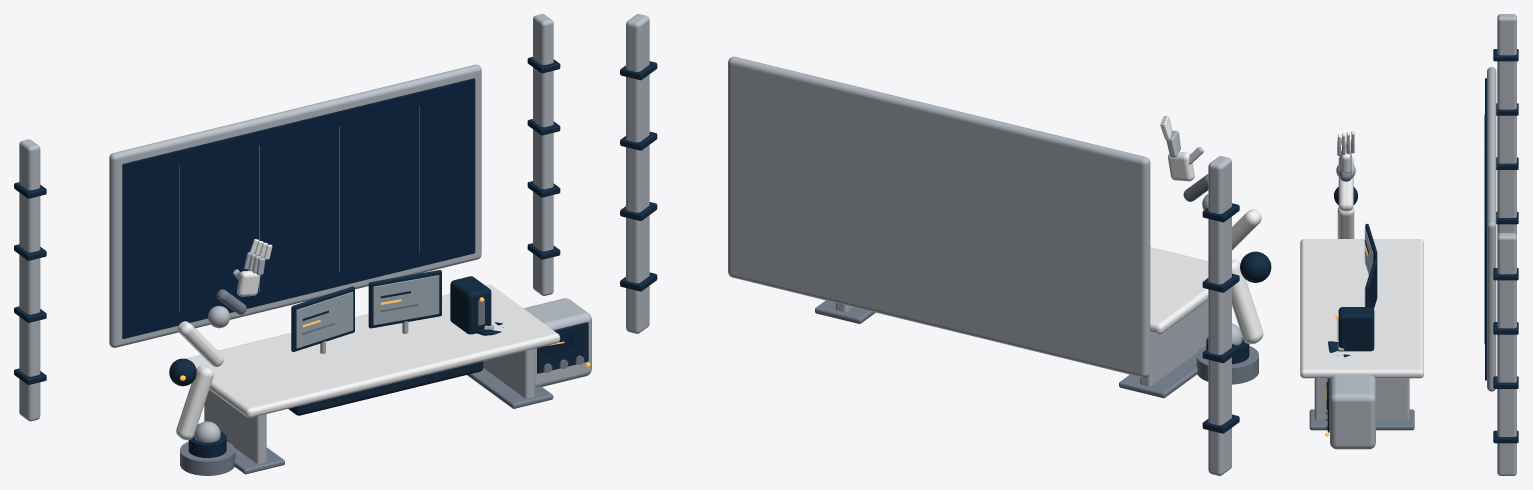
File: home-lab-scene-model-01.glb
3 renders of one model, left to right at view 1: azimuth 30°, elevation 25°; view 2: azimuth 150°, elevation 25°; view 3: azimuth 270°, elevation 25°, orthographic. The views are drawn at different scales.
Parts seen in each view (by area): view 1: screen-surface, bench-top, screen-frame, pylon (×2), monitor-frame (×2), monitor-panel (×2), bench-leg--2.35, instrument-shell, bench-core, compute-module, bench-leg-2.35, arm-link-01 (+7 smaller); view 2: screen-frame, pylon (×2), bench-top, bench-leg--2.35, arm-link-01, bench-foot--2.35, arm-base, arm-joint-02, bench-foot-2.35; view 3: bench-top, pylon (×2), instrument-shell, screen-frame, bench-leg-2.35, compute-module, monitor-frame (×2), bench-foot-2.35, screen-surface, arm-link-02, arm-link-01, monitor-panel.
Boxes of the visible parts, left/top/right/bottom form: screen-surface: left=122, top=78, right=475, bottom=338; bench-top: left=185, top=284, right=560, bottom=417; screen-frame: left=109, top=64, right=481, bottom=347; pylon (×2): left=19, top=14, right=553, bottom=421; monitor-frame (×2): left=291, top=270, right=441, bottom=351; monitor-panel (×2): left=296, top=275, right=439, bottom=348; bench-leg--2.35: left=204, top=390, right=266, bottom=463; instrument-shell: left=524, top=298, right=591, bottom=387; bench-core: left=288, top=361, right=483, bottom=415; compute-module: left=450, top=276, right=491, bottom=334; bench-leg-2.35: left=483, top=348, right=534, bottom=398; arm-link-01: left=176, top=365, right=213, bottom=440; screen-frame: left=728, top=56, right=1150, bottom=377; pylon (×2): left=626, top=14, right=1231, bottom=475; bench-top: left=1150, top=247, right=1208, bottom=334; bench-leg--2.35: left=1140, top=300, right=1208, bottom=386; arm-link-01: left=1232, top=259, right=1263, bottom=344; bench-foot--2.35: left=1119, top=353, right=1197, bottom=398; arm-base: left=1196, top=346, right=1258, bottom=384; arm-joint-02: left=1240, top=251, right=1271, bottom=282; bench-foot-2.35: left=815, top=300, right=875, bottom=323; bench-top: left=1300, top=239, right=1423, bottom=378; pylon (×2): left=1497, top=14, right=1516, bottom=475; instrument-shell: left=1330, top=375, right=1375, bottom=449; screen-frame: left=1487, top=67, right=1496, bottom=391; bench-leg-2.35: left=1314, top=378, right=1409, bottom=419; compute-module: left=1338, top=307, right=1374, bottom=351; monitor-frame (×2): left=1365, top=224, right=1377, bottom=308; bench-foot-2.35: left=1309, top=409, right=1414, bottom=430; screen-surface: left=1485, top=78, right=1486, bottom=380; arm-link-02: left=1338, top=156, right=1353, bottom=211; arm-link-01: left=1337, top=207, right=1354, bottom=238; monitor-panel: left=1364, top=228, right=1373, bottom=274.
Bounding box in the file's own units: 9.34 × 4.62 × 3.8.
